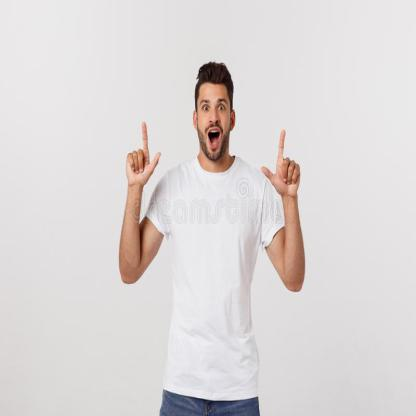Up: (117, 119, 166, 194), (259, 125, 307, 201)
